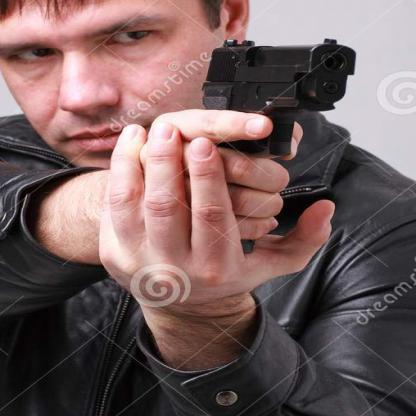gun: (198, 35, 359, 158)
